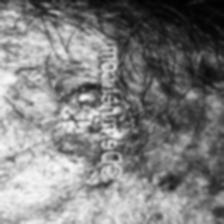Potentially Malignant Skin Tumors: (60, 78, 99, 142), (120, 95, 140, 139)
